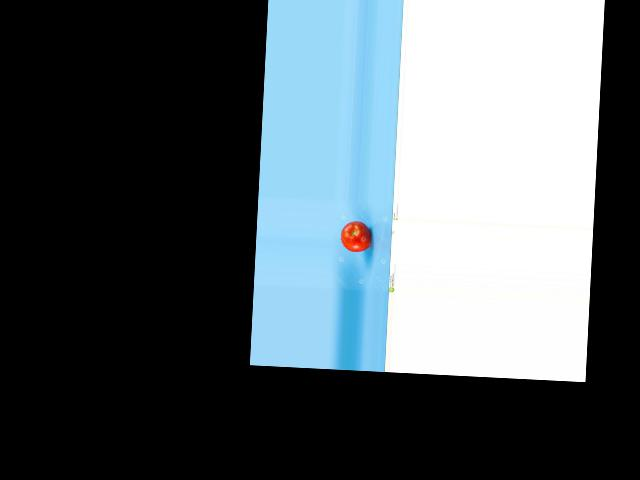tomato: (340, 219, 371, 252)
